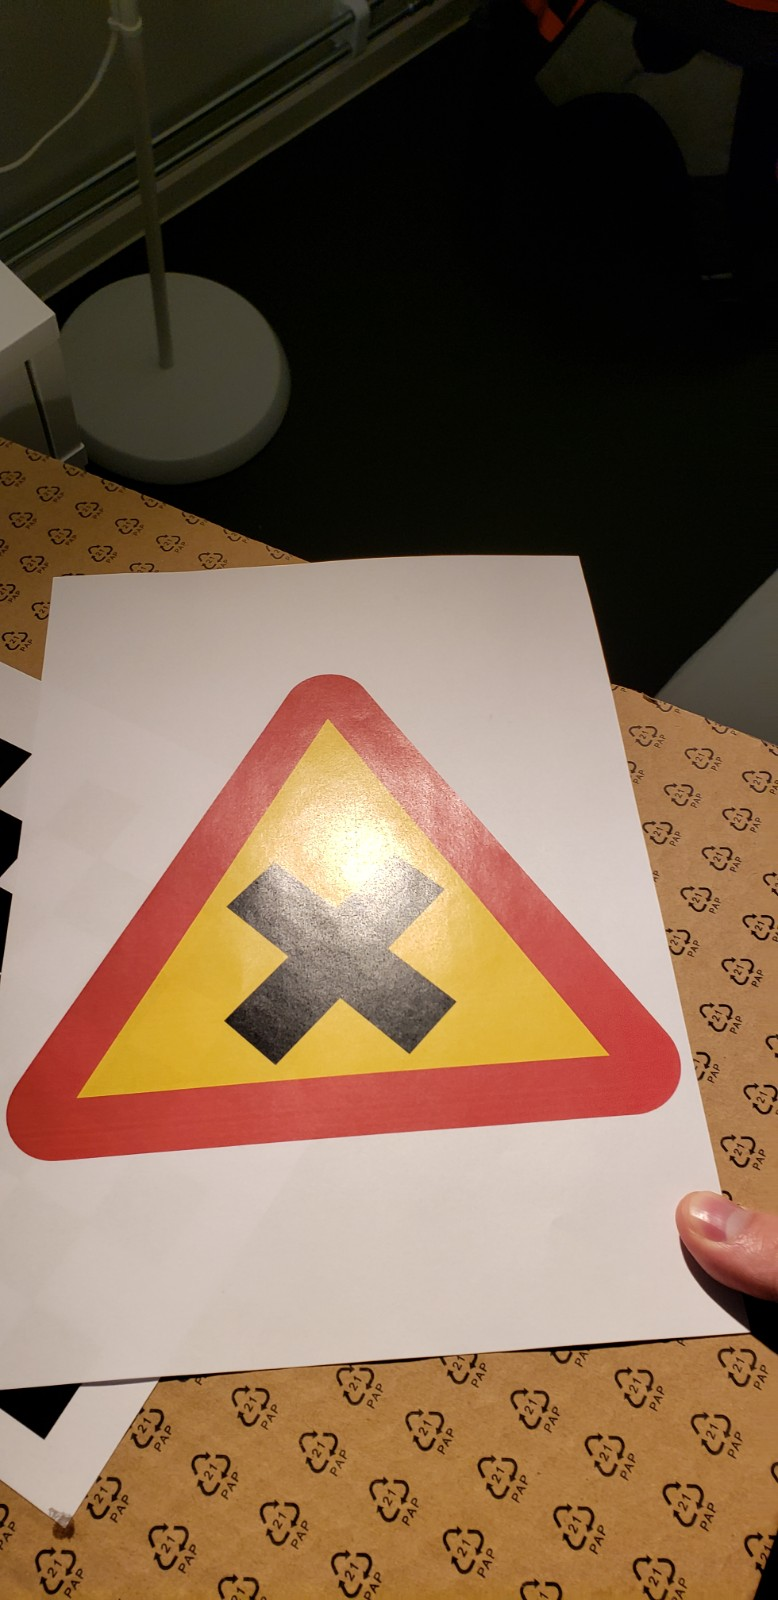junction: (38, 607, 749, 1231)
